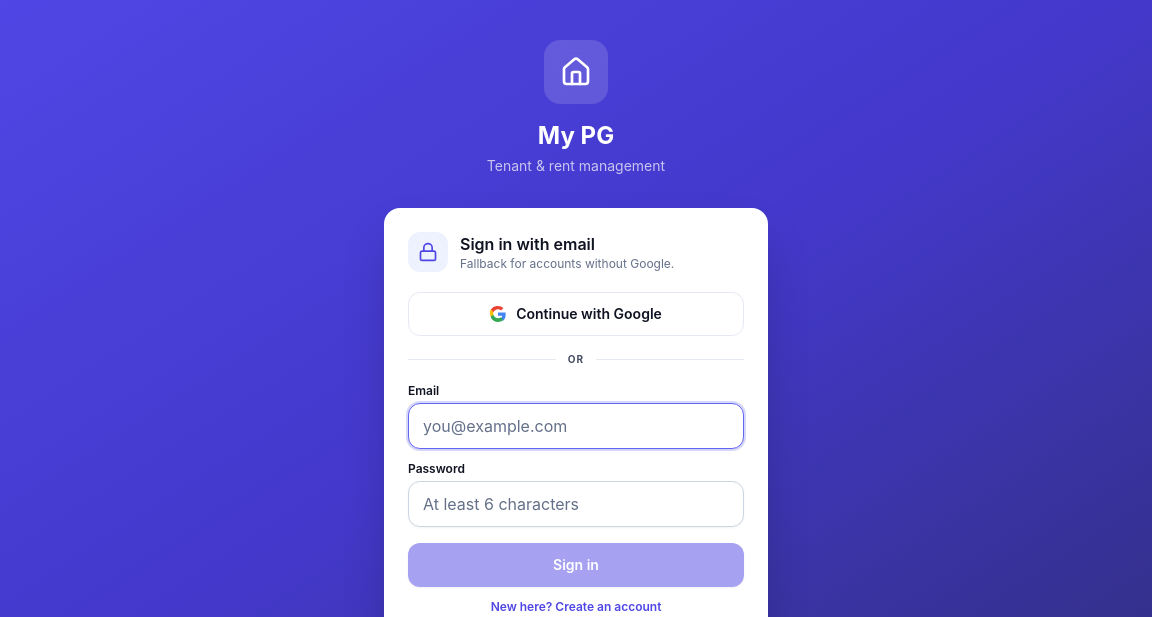
Test: App › lets a user sign in with email and password
Type "owner@example.com" into the field labelled "Email" at (576, 426), box [408, 403, 744, 449]
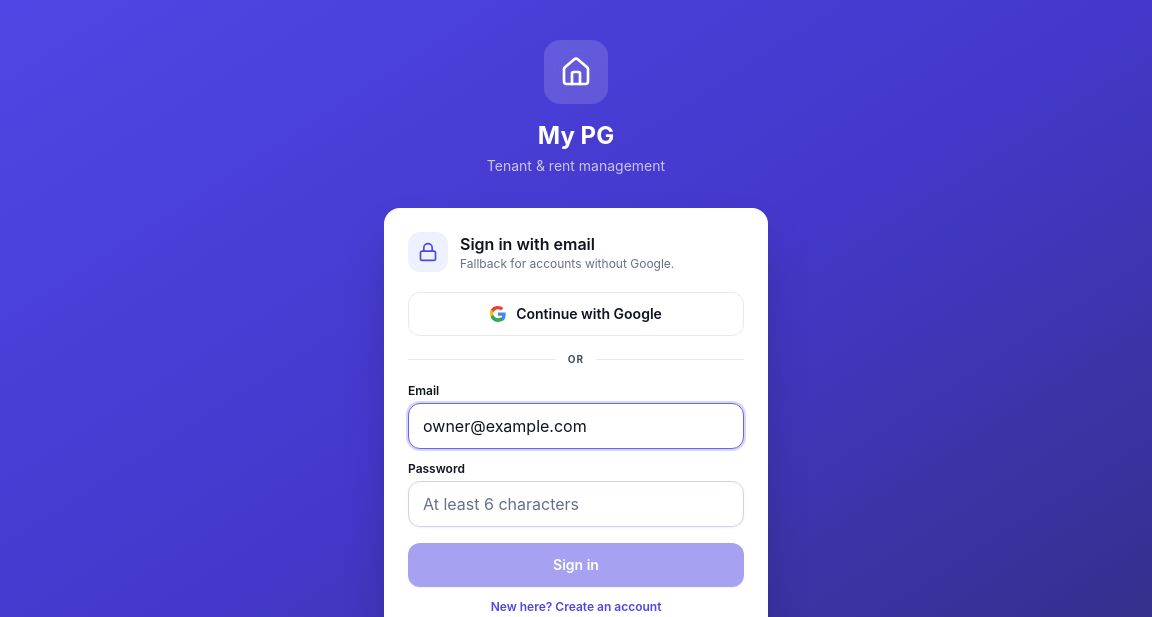
Type "hunter2pass" into the password field labelled "Password" at (576, 504), box [408, 481, 744, 527]
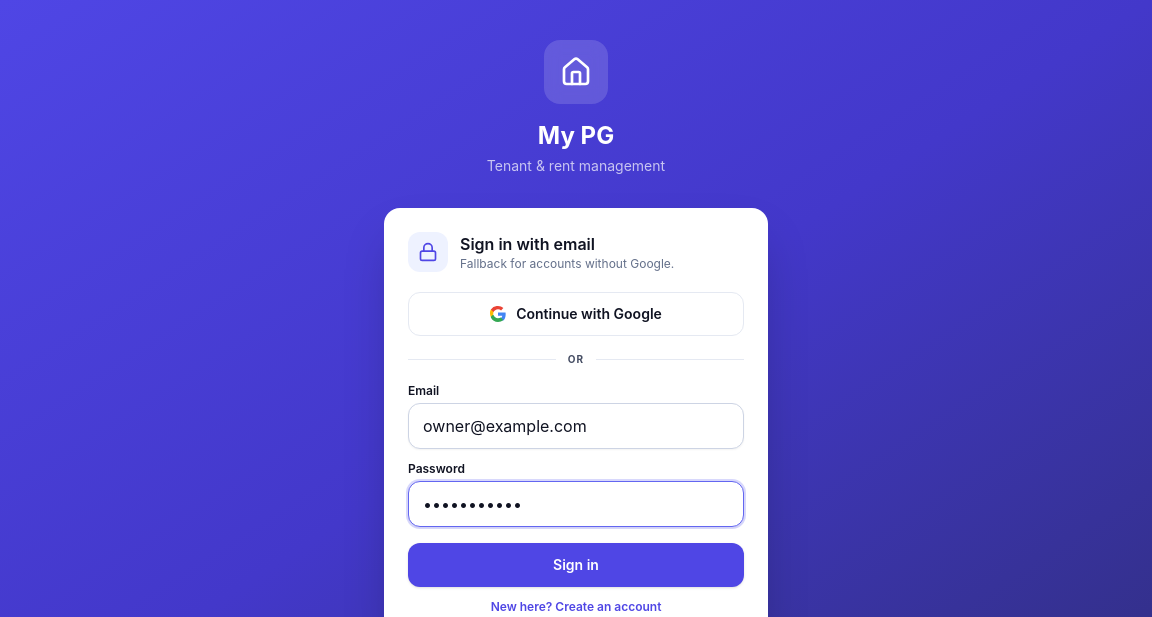
Click the button "Sign in" at (576, 565), box [408, 543, 744, 587]
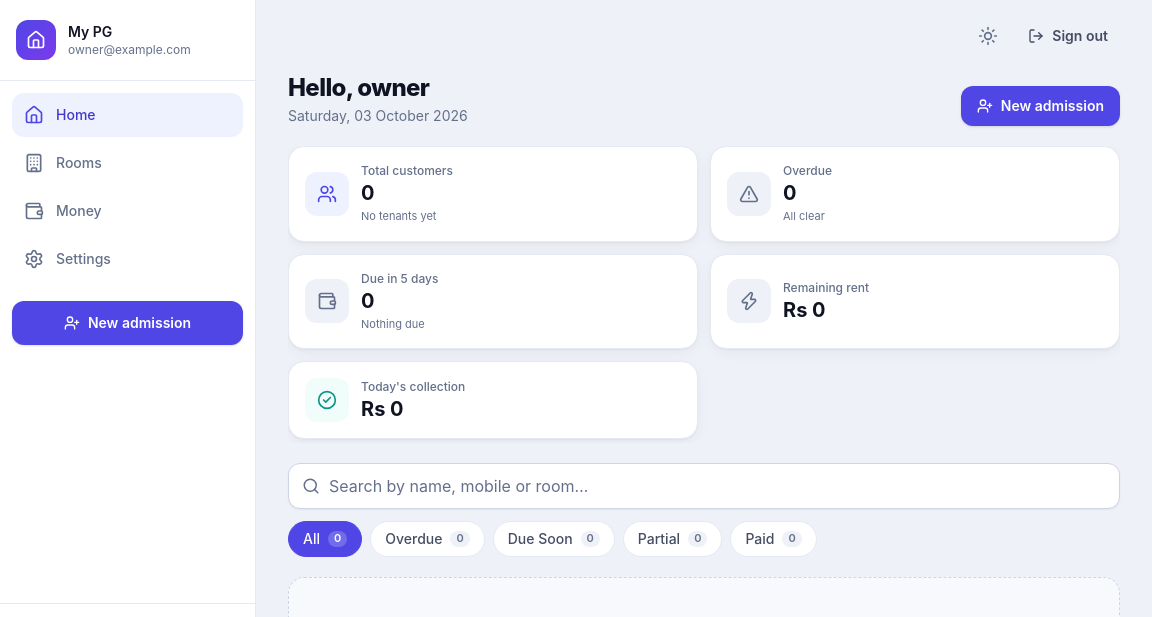
Now the text "No tenants yet" is shown, box [361, 209, 436, 223]
